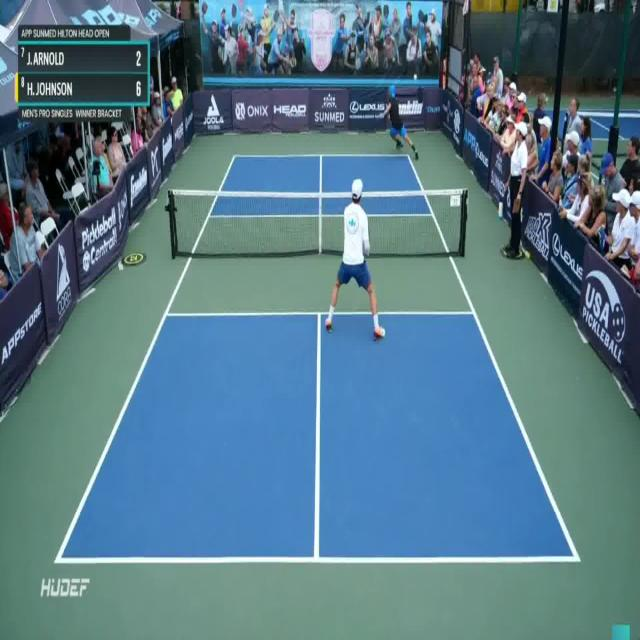Court: (61, 149, 576, 562)
ball: (411, 71, 419, 83)
